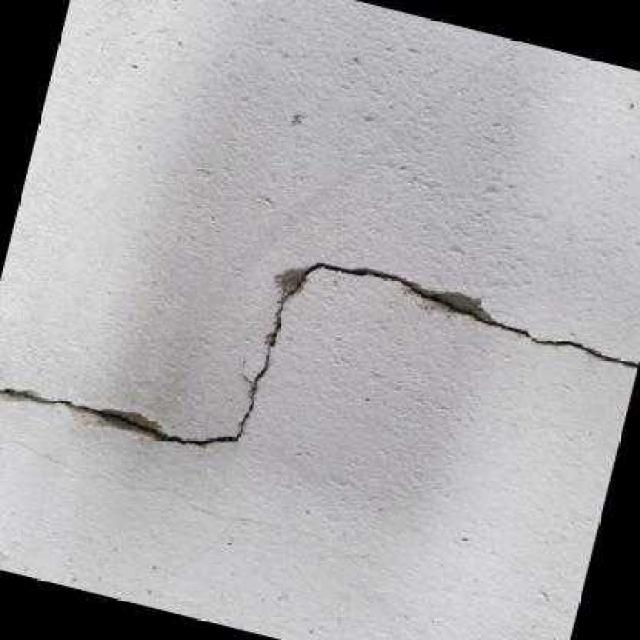D00: (0, 261, 639, 444)
